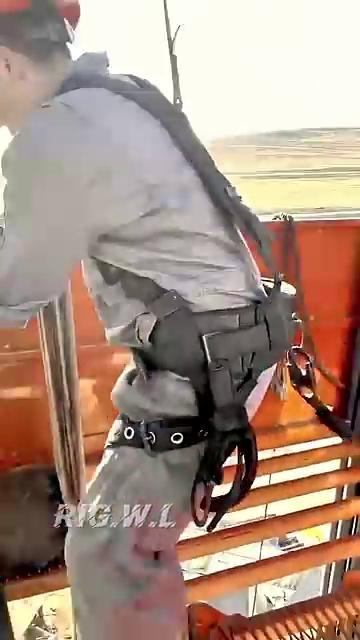helmet: (0, 0, 128, 26)
worker: (7, 0, 300, 640)
